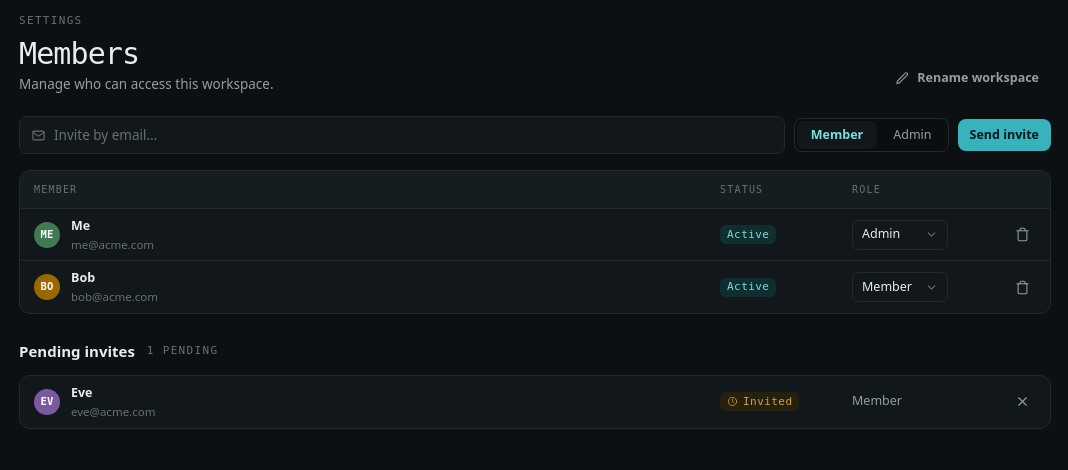
Test: workspaces-ui S-003 — members screen › AS-012: an invalid invite email is rejected before sending (inline error, no invite created)
Expected: the element with test id "member-row-u-bob" is shown, x1=20 y1=261 x2=1050 y2=313
Type "not-an-email" into the field with test id "invite-email" at (413, 135), box x1=54 y1=125 x2=773 y2=145
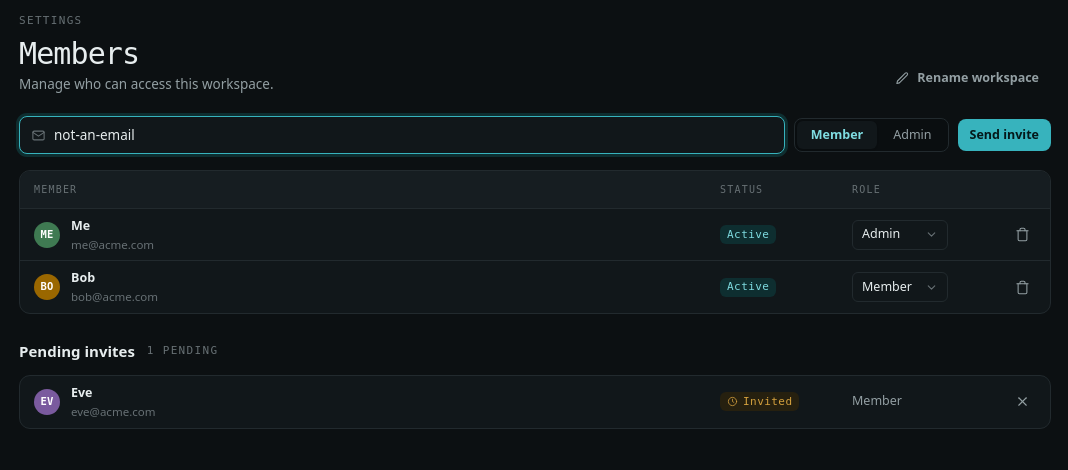
Click the button with test id "invite-submit" at (1004, 135), box x1=958 y1=119 x2=1051 y2=151
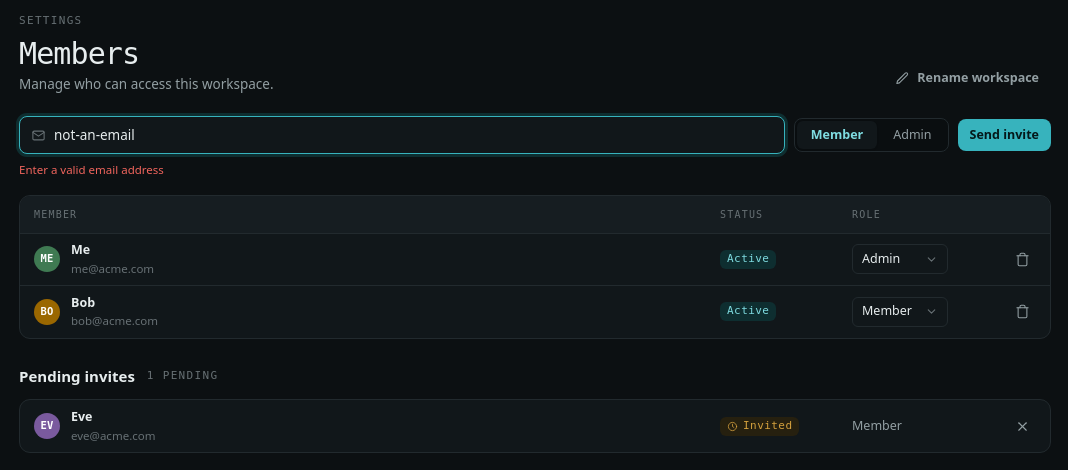
Expected: the message "Enter a valid email address" is shown, x1=19 y1=162 x2=164 y2=177
